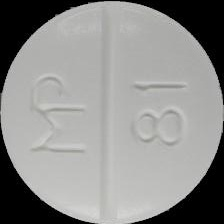53489-145: (0, 0, 224, 224)
